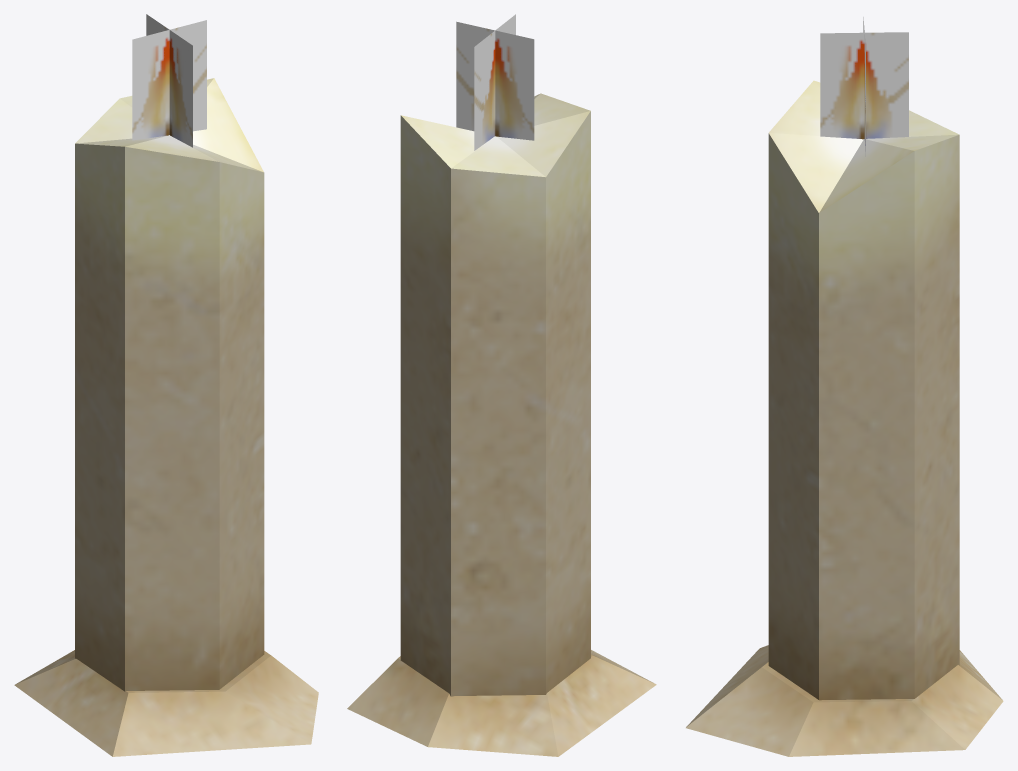
File: Candle_1.fbx
3 views of the same model, side by side, from view 1: azimuth 30°, elevation 25°; view 2: azimuth 150°, elevation 25°; view 3: azimuth 270°, elevation 25° (orthographic).
Visible parts, largest first — view 1: Candle_1; view 2: Candle_1; view 3: Candle_1.
Boxes of the visible parts, bbox=[...] form: Candle_1: bbox=[14, 14, 318, 756]; Candle_1: bbox=[347, 14, 656, 756]; Candle_1: bbox=[686, 17, 1003, 756].
Bounding box in the file's own units: 8.14 × 23.32 × 10.05.
